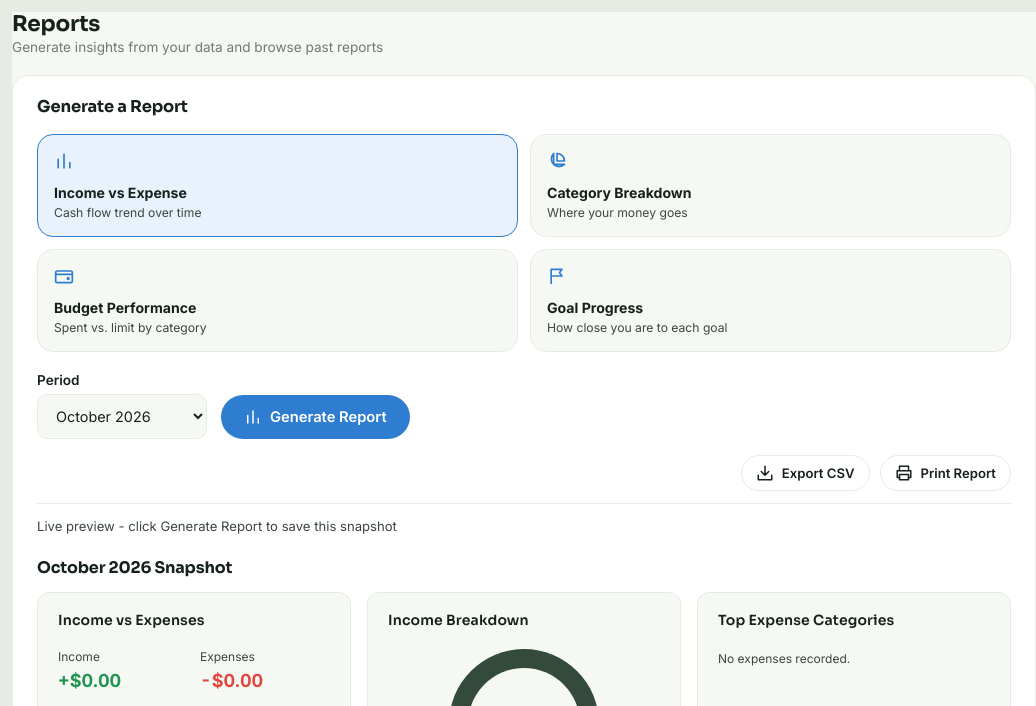
shows save failures without claiming that the report was generated
This screenshot has width=1036, height=706.
Click the button "Generate Report" at (315, 417), box [221, 395, 410, 439]
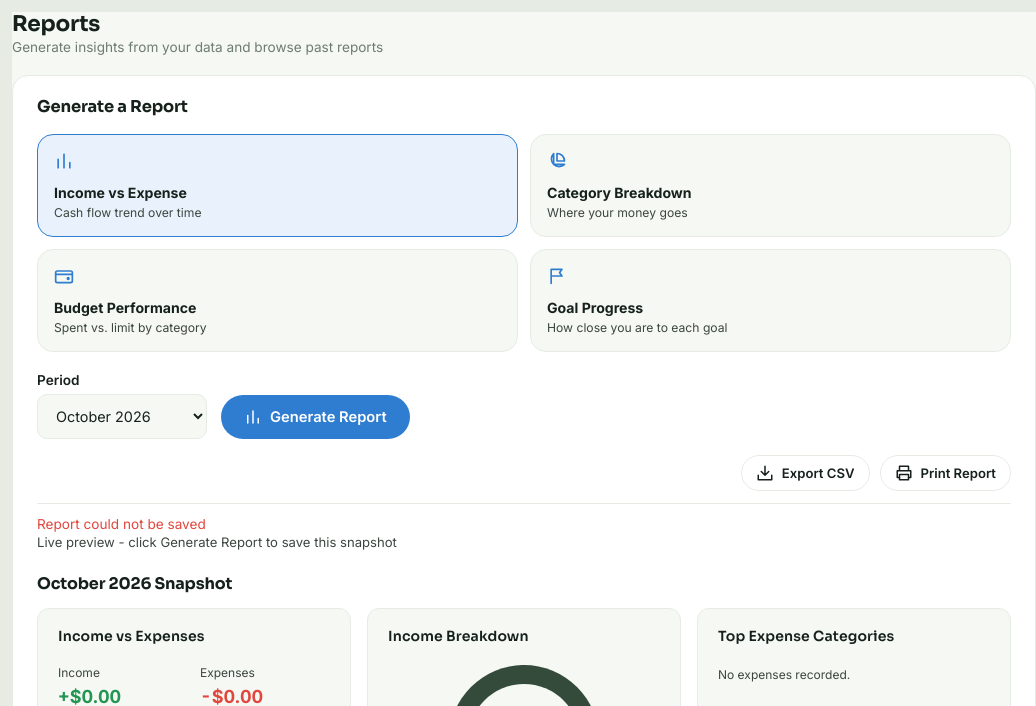
Expected: the message "Report could not be saved" is shown, [37, 516, 206, 532]
